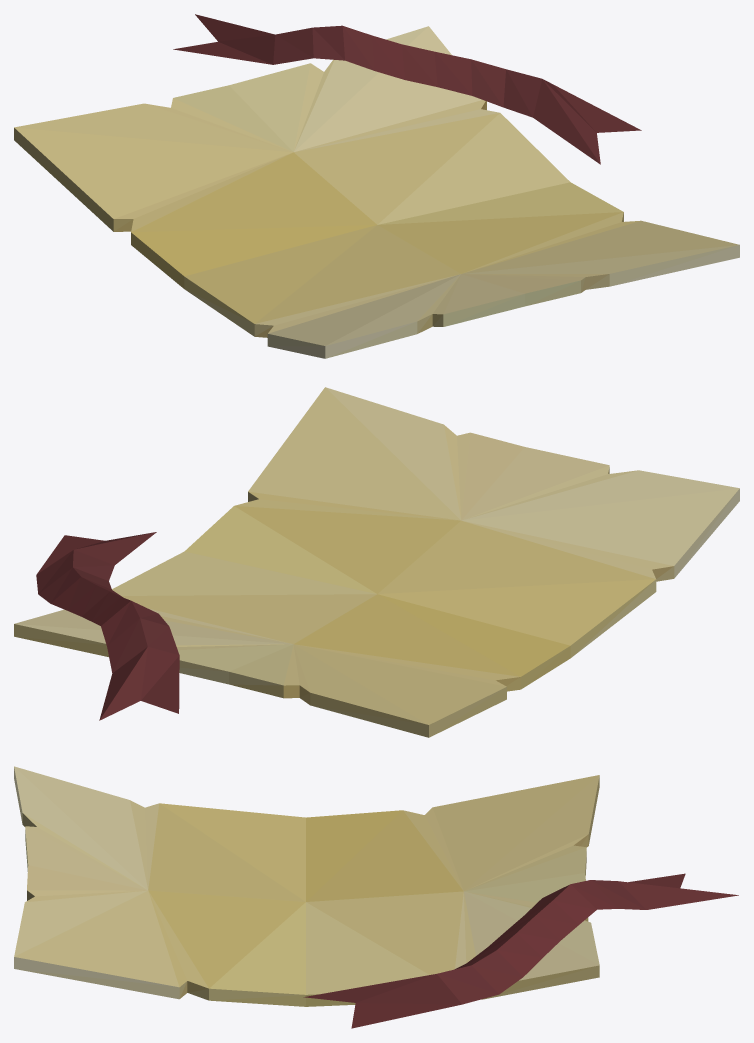
The model's file is prop_literature_scroll_open.fbx.
3 views of the same model, one above another, from view 1: azimuth 30°, elevation 25°; view 2: azimuth 150°, elevation 25°; view 3: azimuth 270°, elevation 25° (orthographic). The views are drawn at different scales.
Parts seen in each view (by area): view 1: prop_literature_scroll_open; view 2: prop_literature_scroll_open; view 3: prop_literature_scroll_open.
Part boxes in pixels (bbox=[...]): prop_literature_scroll_open: bbox=[14, 14, 739, 358]; prop_literature_scroll_open: bbox=[14, 387, 739, 737]; prop_literature_scroll_open: bbox=[14, 766, 738, 1028].
Size of the model in its own units: 0.9266 by 0.1645 by 1.25.
